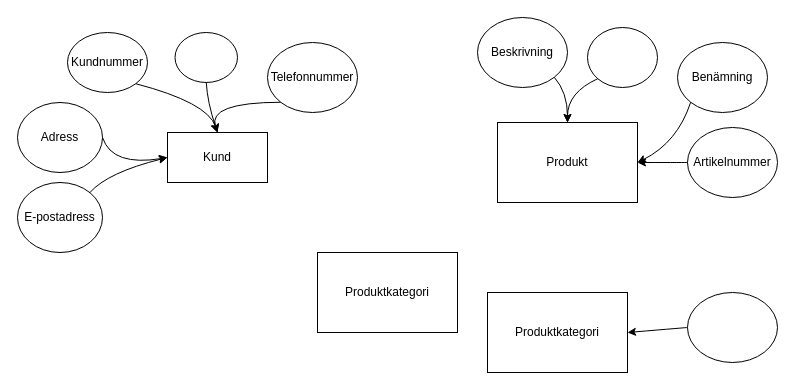
Image size: 795x390. Some labels were removed from this diagram. The centre of each missing label's shape, as x and y in pixels:
"Kategorier" goes at point (732, 327).
"Namn" goes at point (206, 57).
"Pris" goes at point (622, 57).
